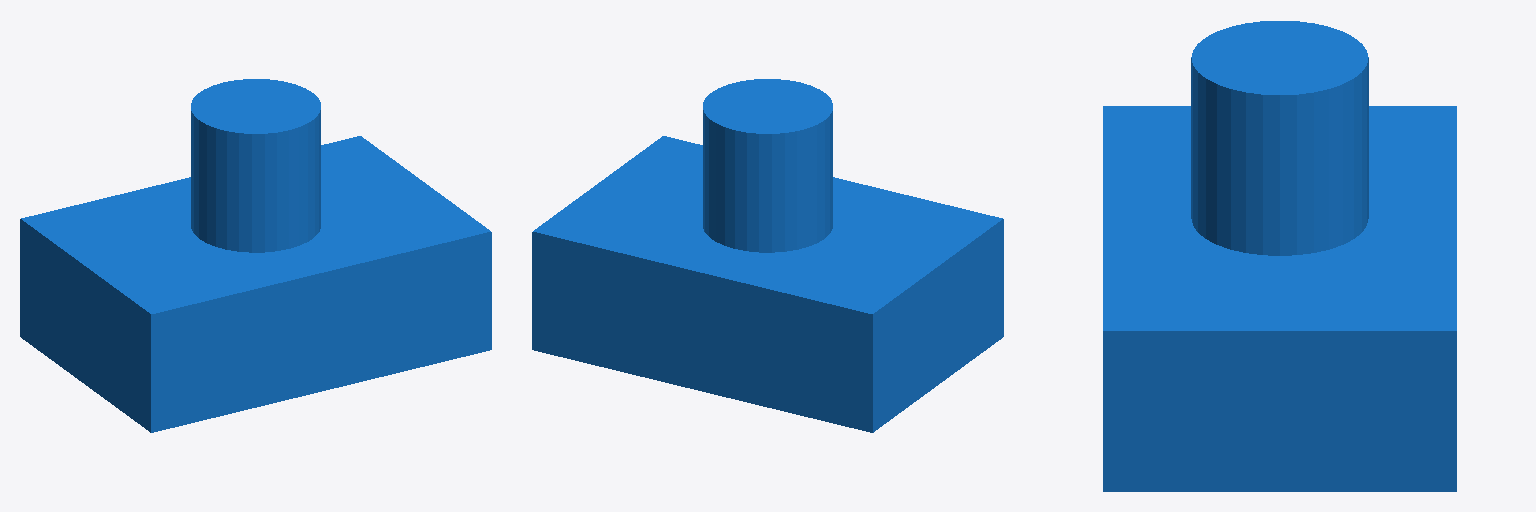
URDF robot description (link_collision_robot):
<?xml version="1.0"?>
<robot name="link_collision_robot">
    <material name="blue">
        <color rgba="0.15 0.55 0.90 1.0"/>
    </material>

    <link name="base_link">
        <!-- Visual：由两个几何形状构成外观 -->
        <!-- 底部车身 -->
        <visual>
            <origin xyz="0 0 0.1"/>
            <geometry>
                <box size="0.6 0.4 0.2"/>
            </geometry>
            <material name="blue"/>
        </visual>

        <!-- 顶部凸起结构 -->
        <visual>
            <origin xyz="0 0 0.3"/>
            <geometry>
                <cylinder radius="0.1" length="0.2"/>
            </geometry>
            <material name="blue"/>
        </visual>

        <!-- Collision：使用一个长方体近似整体外形 -->
        <collision>
            <origin xyz="0 0 0.2"/>
            <geometry>
                <box size="0.6 0.4 0.4"/>
            </geometry>
        </collision>
    </link>
</robot>

--- What the picture shows (computed from the rendered views, not written in the file) ---
Views: 3 orthographic renders of the robot side by side, from view 1: azimuth 30°, elevation 25°; view 2: azimuth 150°, elevation 25°; view 3: azimuth 270°, elevation 25°.
Model link_collision_robot with 1 links and 0 joints (none), rooted at base_link, posed all joints at 0.
Visible links, largest first — view 1: base_link; view 2: base_link; view 3: base_link.
Link boxes in pixels (x1,y1,x2,y2): base_link: (20, 79, 491, 432); base_link: (532, 79, 1003, 432); base_link: (1103, 21, 1456, 491).
Bounding box of the posed robot: 0.6 × 0.4 × 0.4 m (x, y, z).
Geometry: primitives only (box / cylinder / sphere), no mesh files.
